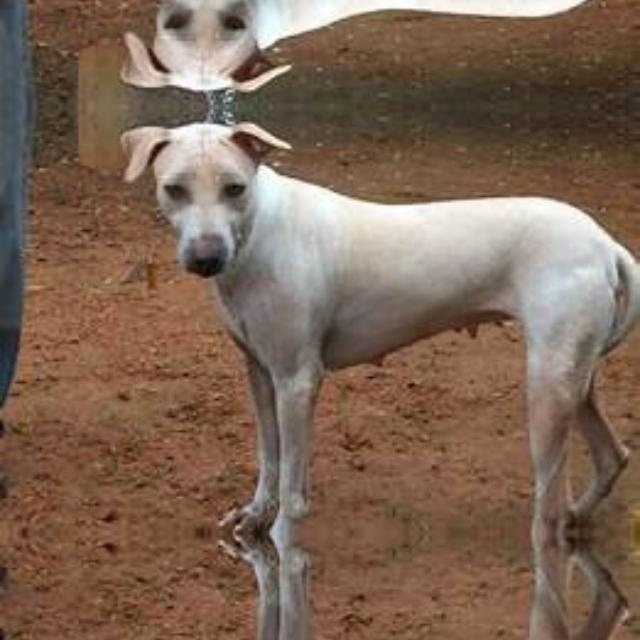dog: (110, 115, 640, 533), (110, 533, 639, 640), (110, 0, 639, 97)
